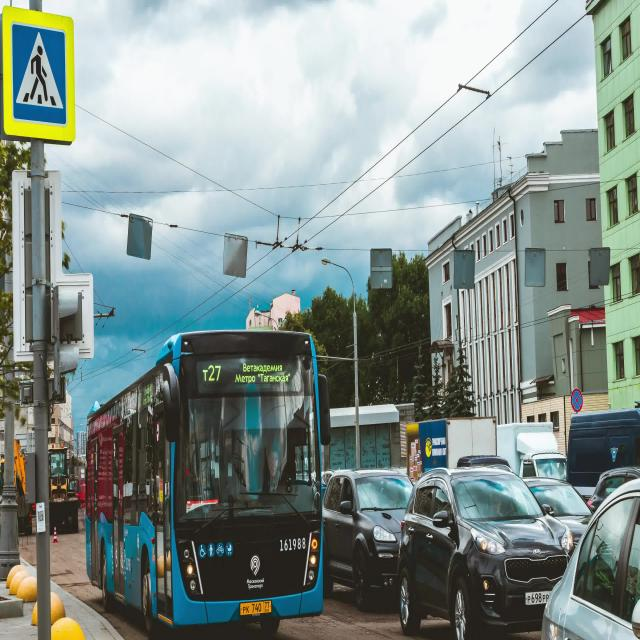Car: (399, 468, 572, 639), (542, 480, 639, 639), (323, 470, 413, 609), (525, 477, 592, 545), (588, 466, 640, 511), (457, 455, 511, 470), (321, 470, 334, 499), (322, 470, 334, 487)
bus: (86, 331, 330, 635)
